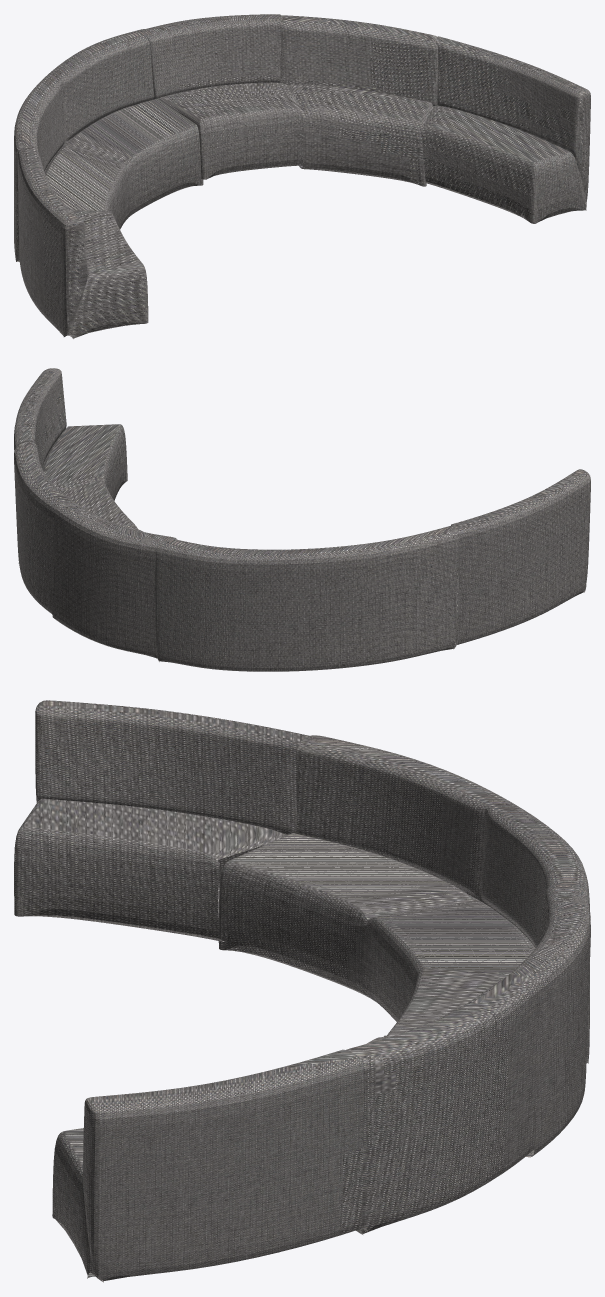
The model's file is sofa.obj.
3 views of the same model, one above another, from view 1: azimuth 30°, elevation 25°; view 2: azimuth 150°, elevation 25°; view 3: azimuth 270°, elevation 25° (orthographic). The views are drawn at different scales.
Visible parts, largest first — view 1: sofa:polySurface7; view 2: sofa:polySurface7; view 3: sofa:polySurface7.
Boxes of the visible parts, bbox=[...] form: sofa:polySurface7: bbox=[14, 14, 590, 338]; sofa:polySurface7: bbox=[14, 368, 590, 671]; sofa:polySurface7: bbox=[14, 700, 590, 1282].
Bounding box in the file's own units: 7.13 × 1.66 × 4.42.
1 material, 1 textured.
